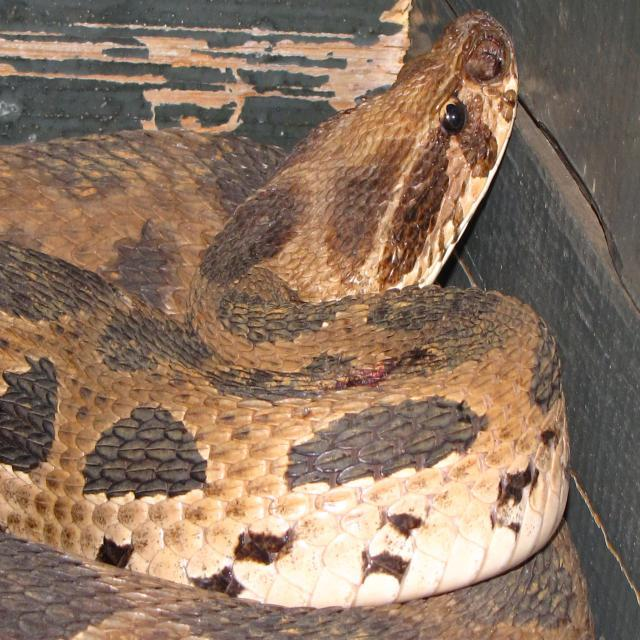Snake: (1, 8, 574, 611)
